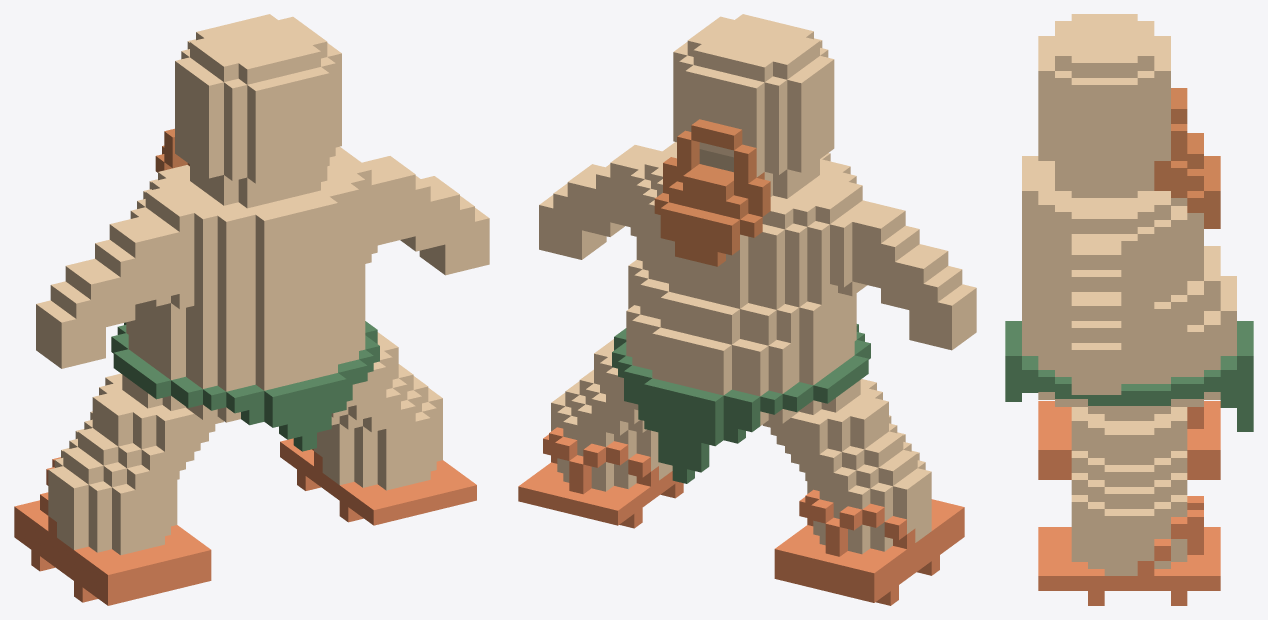
The model's file is Paul Flipped.obj.
The picture shows the model from 3 angles, left to right: view 1: azimuth 30°, elevation 25°; view 2: azimuth 150°, elevation 25°; view 3: azimuth 270°, elevation 25°; orthographic projection. The views are drawn at different scales.
Bounding box in the file's own units: 29 × 33 × 15.
Materials: 1 (1 with a texture image).
